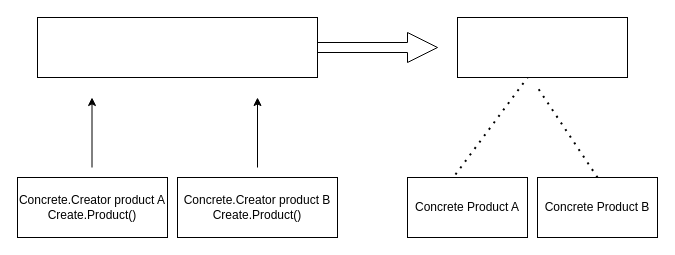
This 675x255 diagram has some shape labels left out. Here are the shapes that lost their labels. From the top down, the centre of each, then its label:
(177,47): Creator product someOperation() Create.Product
(542,47): Interface Product +do stuff()
